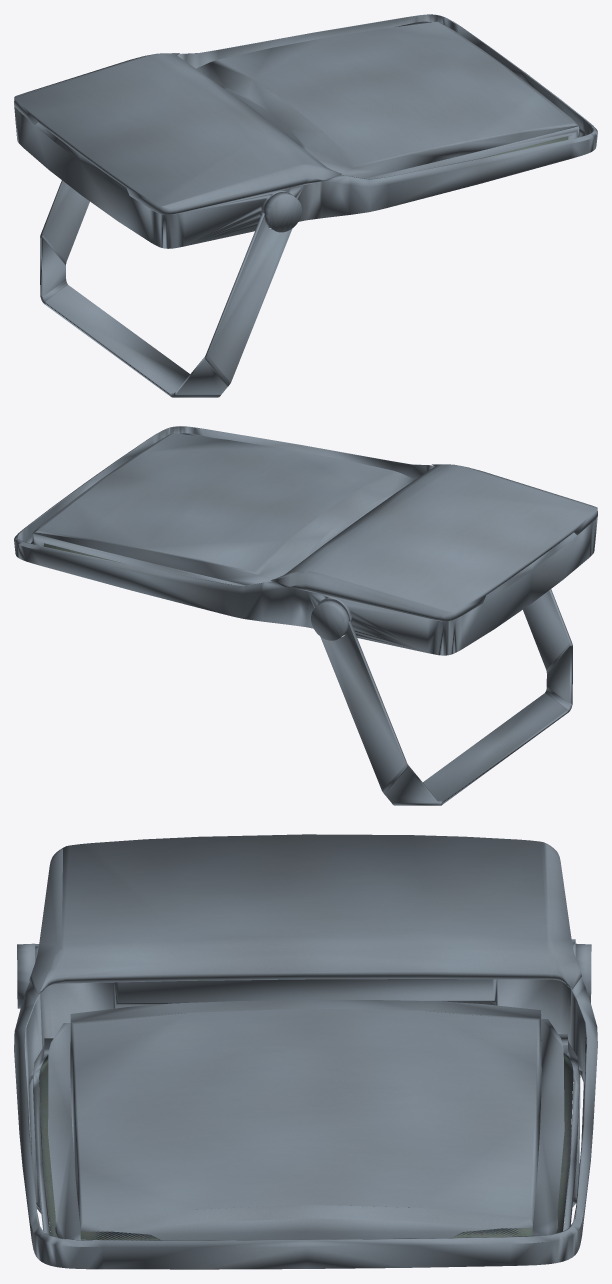
The model's file is Floodlight_FL_20.glb.
3 renders of one model, top to bottom at view 1: azimuth 30°, elevation 25°; view 2: azimuth 150°, elevation 25°; view 3: azimuth 270°, elevation 25°, orthographic. The views are drawn at different scales.
Visible parts, largest first — view 1: Siteco Floodlight FL 20; view 2: Siteco Floodlight FL 20; view 3: Siteco Floodlight FL 20.
Part boxes in pixels (left/top/right/bottom): Siteco Floodlight FL 20: left=14, top=14, right=597, bottom=397; Siteco Floodlight FL 20: left=14, top=426, right=597, bottom=805; Siteco Floodlight FL 20: left=14, top=834, right=597, bottom=1269.
Size of the model in its own units: 0.6519 by 0.299 by 0.447.
2 materials, 2 textured.
